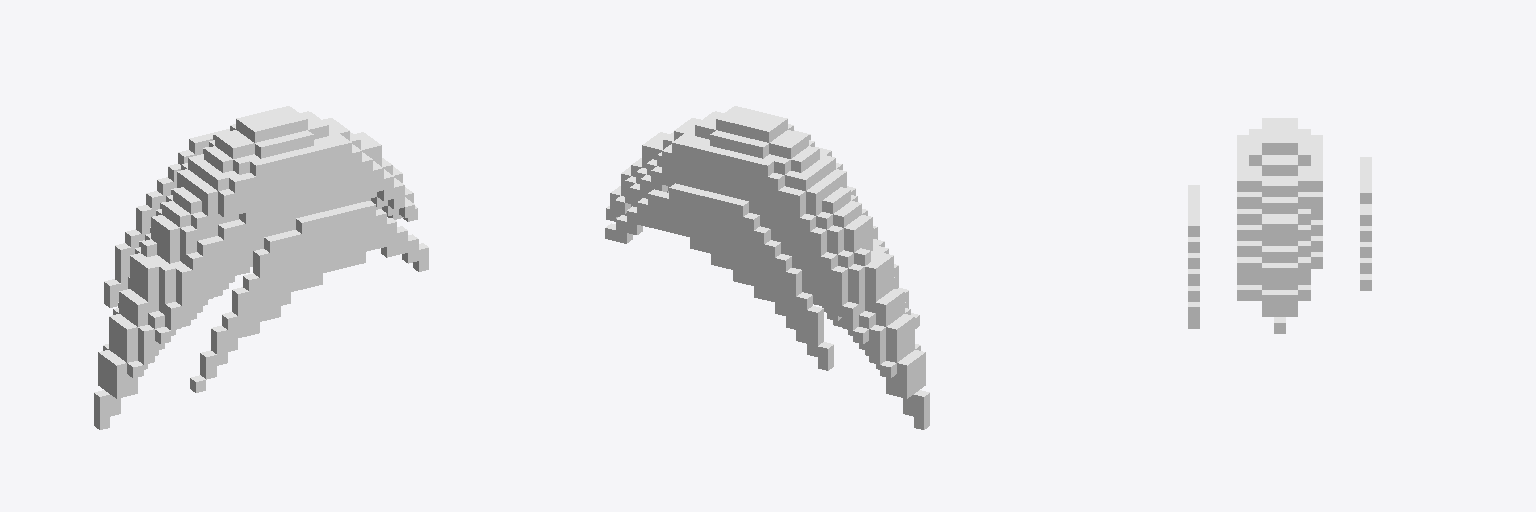
File: nail.obj
3 views of the same model, side by side, from view 1: azimuth 30°, elevation 25°; view 2: azimuth 150°, elevation 25°; view 3: azimuth 270°, elevation 25° (orthographic).
Parts seen in each view (by area): view 1: object 1; view 2: object 1; view 3: object 1.
Boxes of the visible parts, <box> form: object 1: <box>94,106,428,429</box>; object 1: <box>605,106,929,429</box>; object 1: <box>1188,118,1371,333</box>.
Size of the model in its own units: 3 by 2.4 by 1.5.